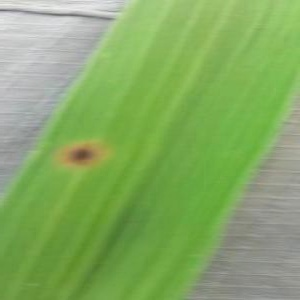Bacterial_Leaf_Blight: (55, 131, 117, 176)
